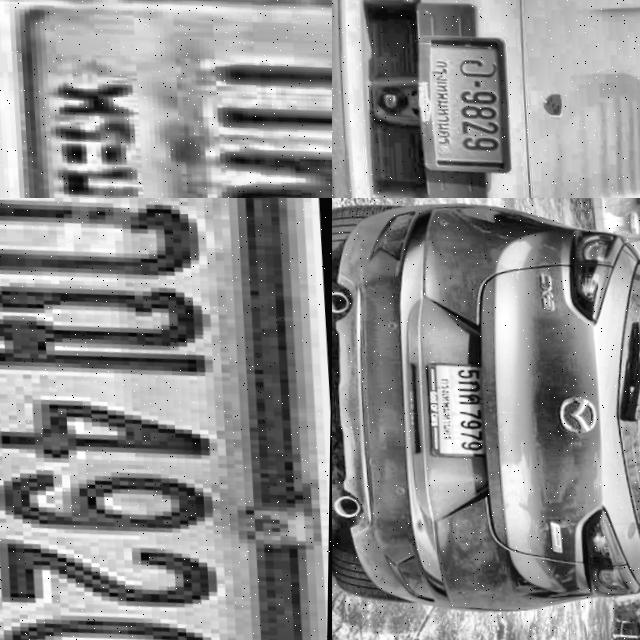license-plate: (0, 198, 313, 640), (0, 0, 332, 198), (410, 18, 520, 181), (417, 345, 504, 467)
